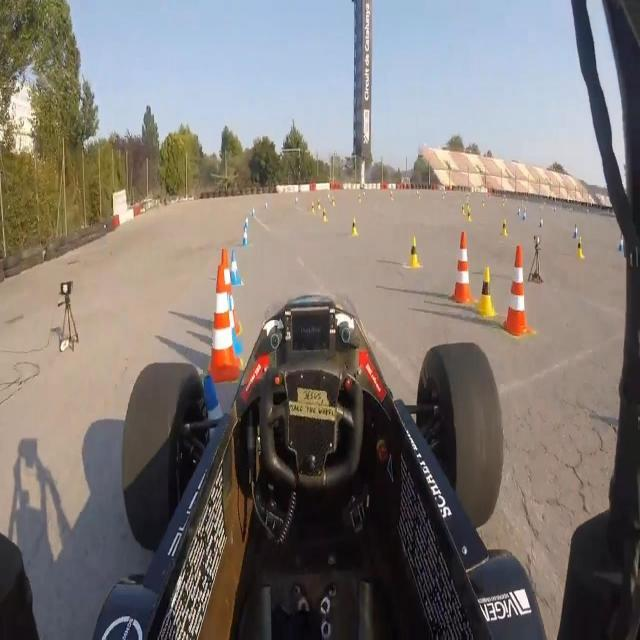blue_cone: (190, 370, 233, 482), (222, 290, 242, 356), (226, 248, 243, 287), (242, 231, 249, 248), (573, 223, 578, 239), (539, 215, 544, 229), (244, 216, 249, 228), (252, 206, 256, 217), (523, 209, 526, 220), (264, 202, 268, 210)
large_orange_cone: (207, 264, 240, 382), (212, 247, 241, 343), (502, 244, 532, 336), (449, 227, 474, 306)
yellow_cone: (475, 267, 496, 321), (405, 234, 421, 270), (575, 236, 584, 259), (349, 216, 358, 237), (501, 218, 508, 236), (322, 207, 327, 224), (467, 209, 472, 222), (316, 198, 321, 210), (311, 200, 315, 214), (461, 203, 465, 216)
